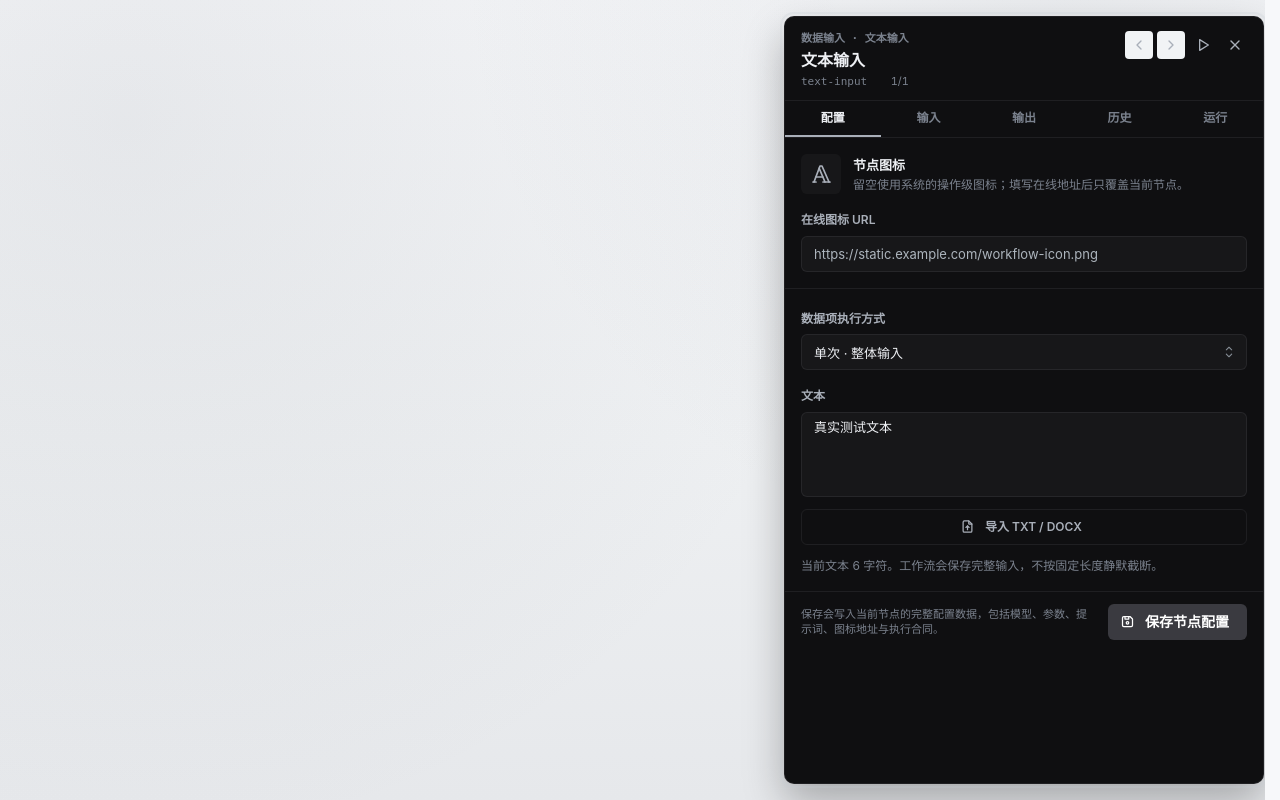
Test case: WorkflowNodeInspectorPanel › keeps the most recent successful output visible when a newer execution terminates without output
Click the tab "输出": (1024, 119) [976,101,1072,137]
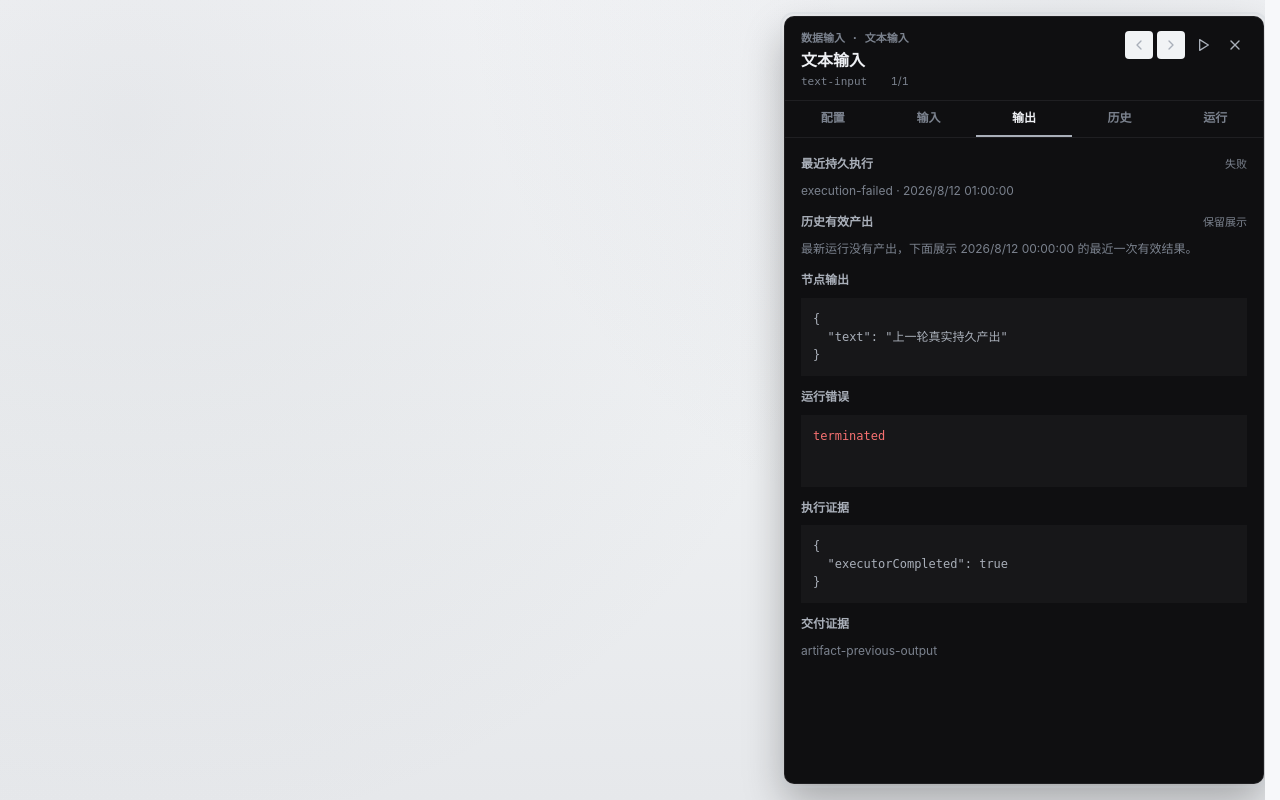
Check: the element "最近持久执行" shows "失败", box [1225,156,1247,170]
Check: the element "历史有效产出" shows "最近一次有效结果", box [1074,241,1197,256]
Check: the element "节点输出" shows "上一轮真实持久产出", box [813,312,1008,362]
